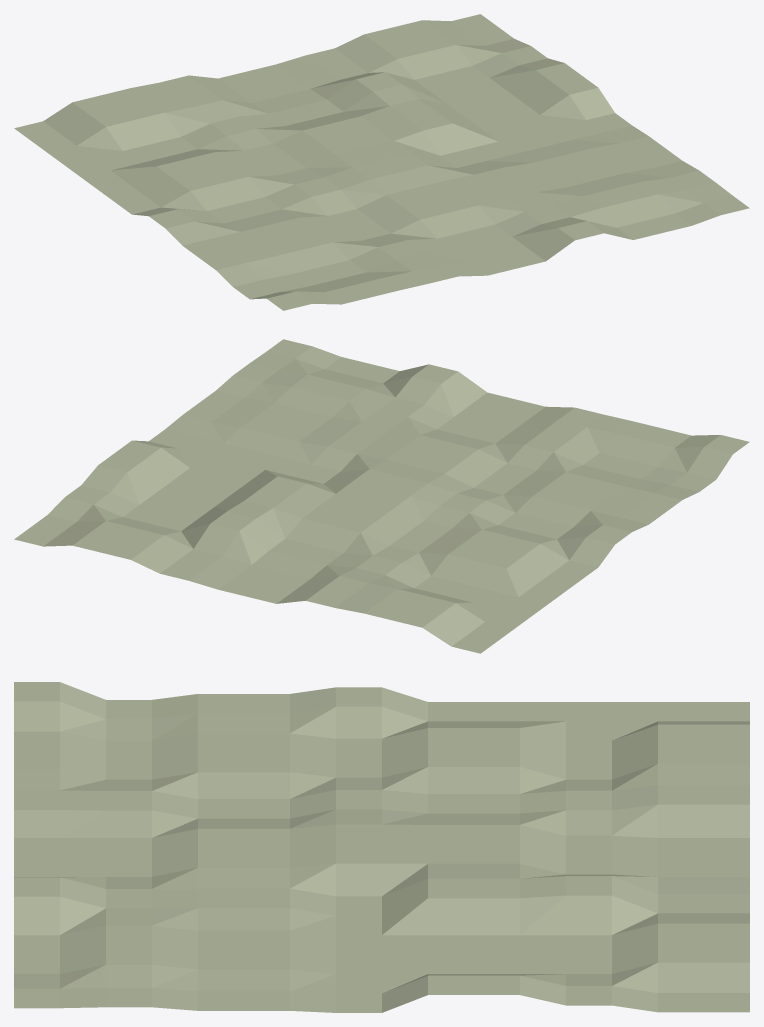
3 views of the same model, one above another, from view 1: azimuth 30°, elevation 25°; view 2: azimuth 150°, elevation 25°; view 3: azimuth 270°, elevation 25° (orthographic). The views are drawn at different scales.
Size of the model in its own units: 32 by 0.9714 by 32.
